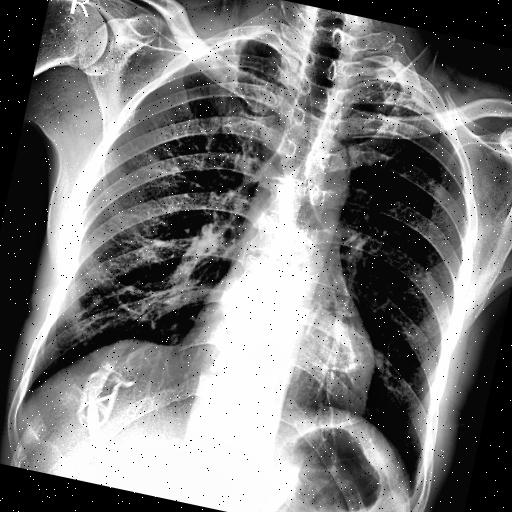11- Pleural thickening: (367, 71, 458, 130), (202, 30, 264, 72), (400, 80, 444, 118)
13- Pulmonary fibrosis: (363, 84, 425, 140)
7- Lung Opacity: (366, 87, 421, 134)
